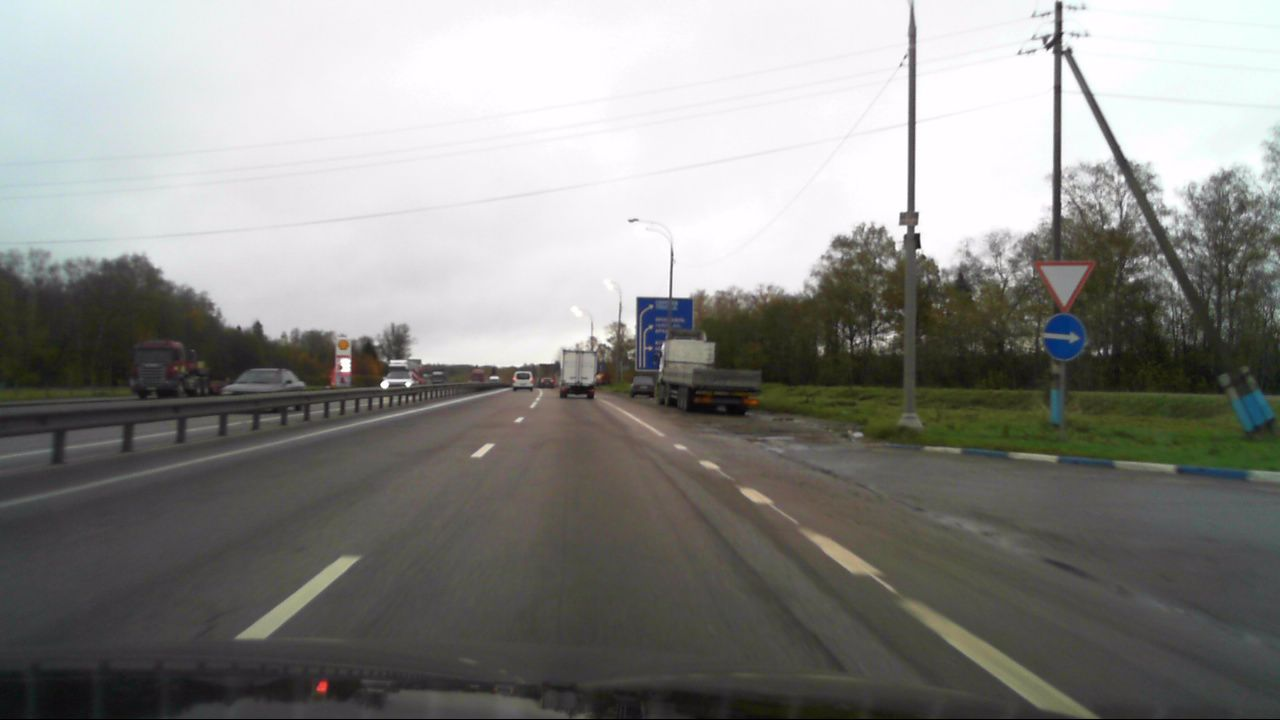Turn Right: (1042, 313, 1086, 362)
